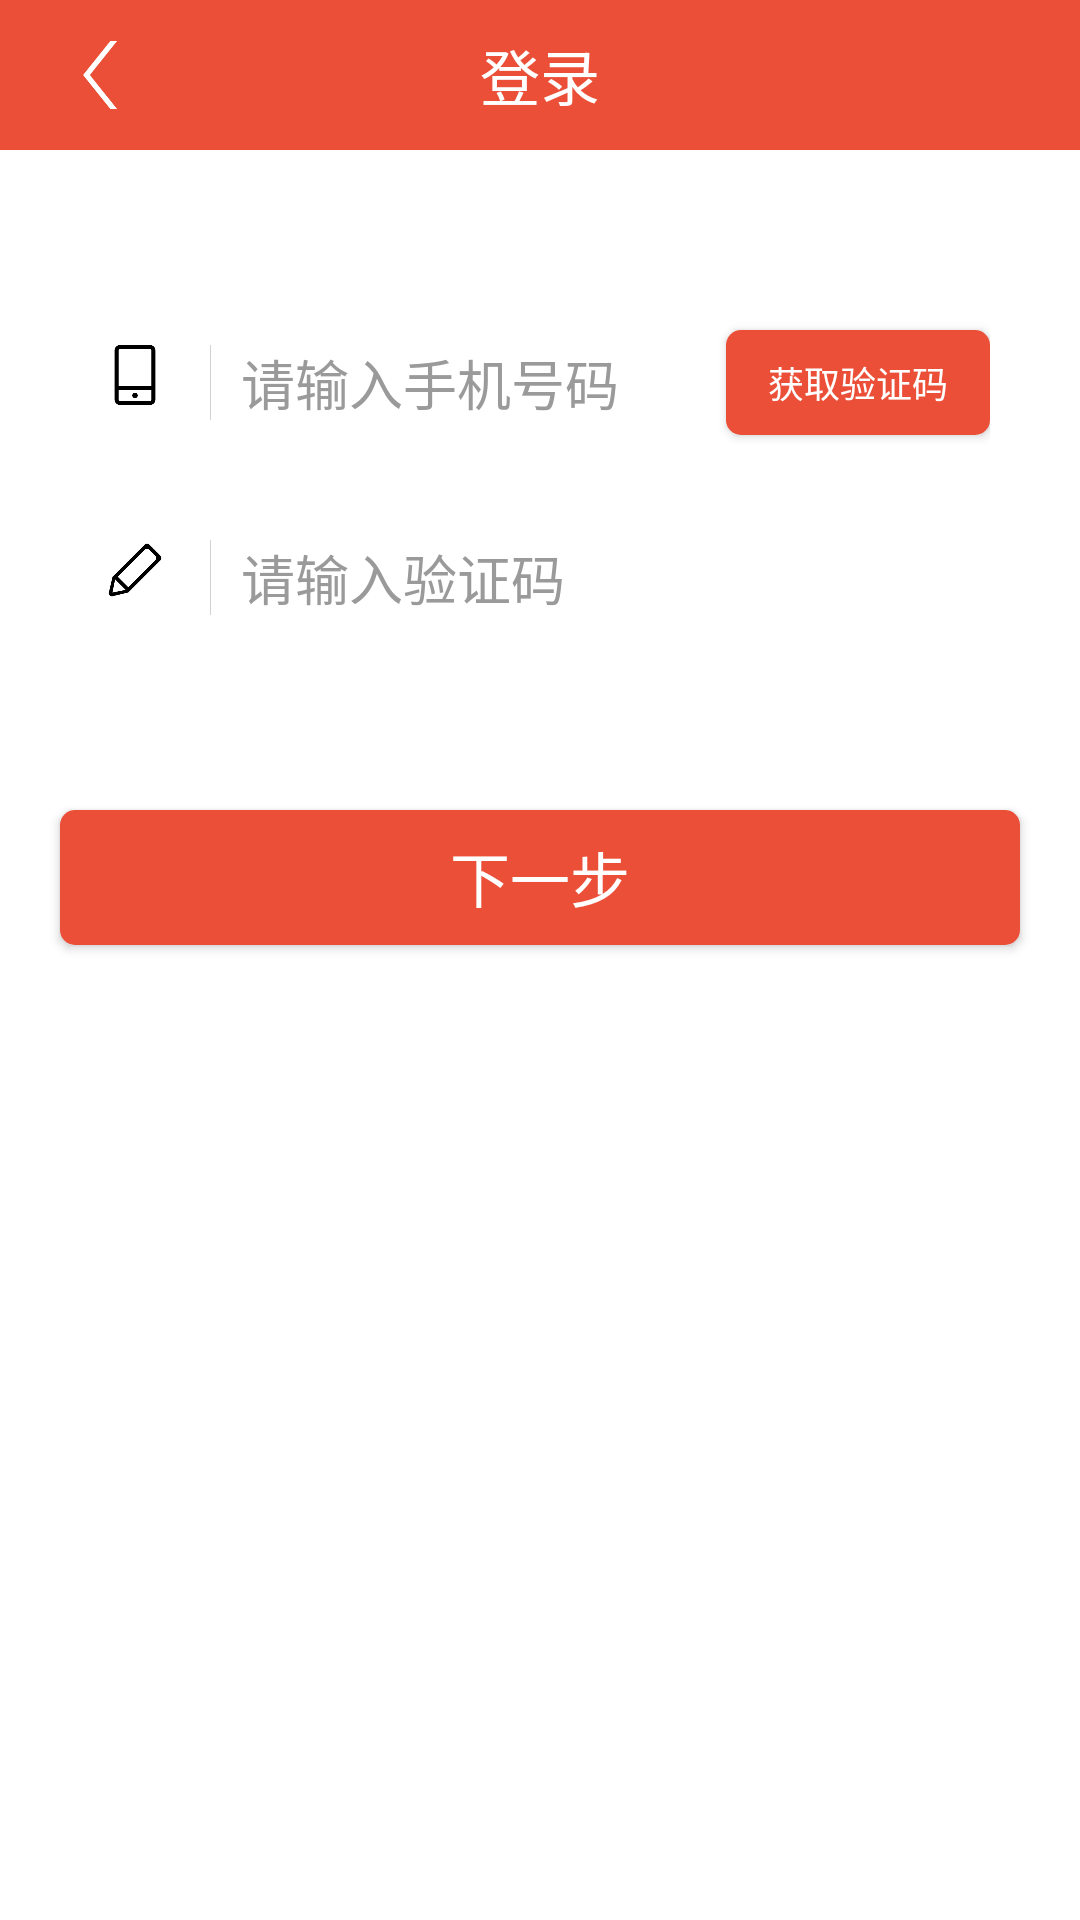

Icons on this 1080*1920 Android screen, each with the point to tap as (x,y):
edit: (135,570)
phone: (135,375)
return arrow: (100,75)
